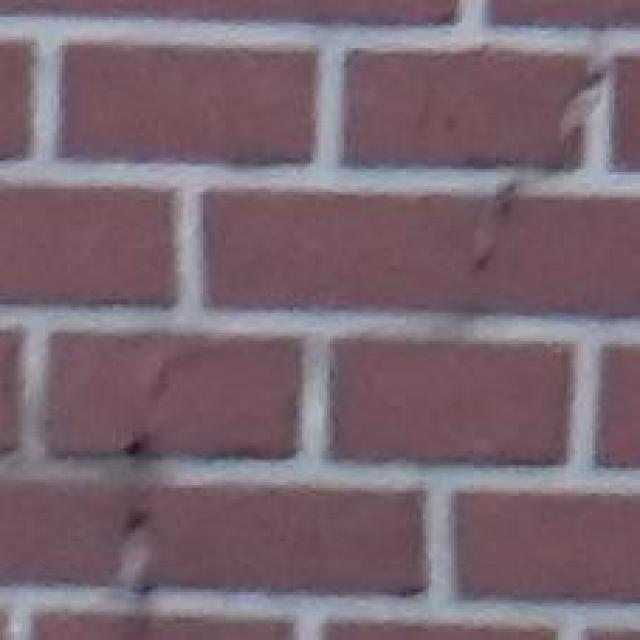Crack: (389, 0, 639, 394), (79, 294, 281, 640)
